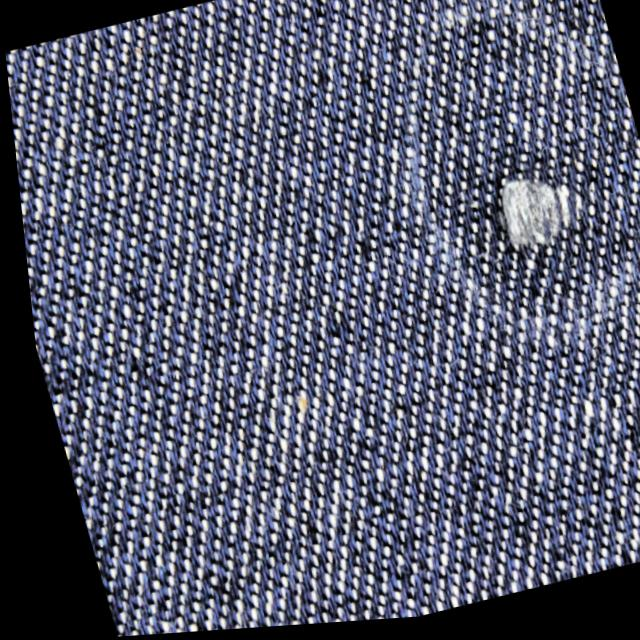Hole: (474, 143, 595, 280)
